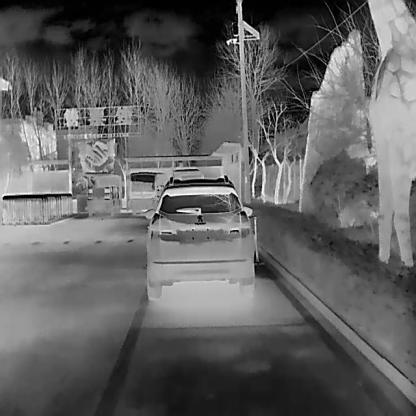bus: (80, 171, 122, 216), (126, 171, 162, 214), (172, 167, 202, 179)
car: (143, 174, 256, 300)
